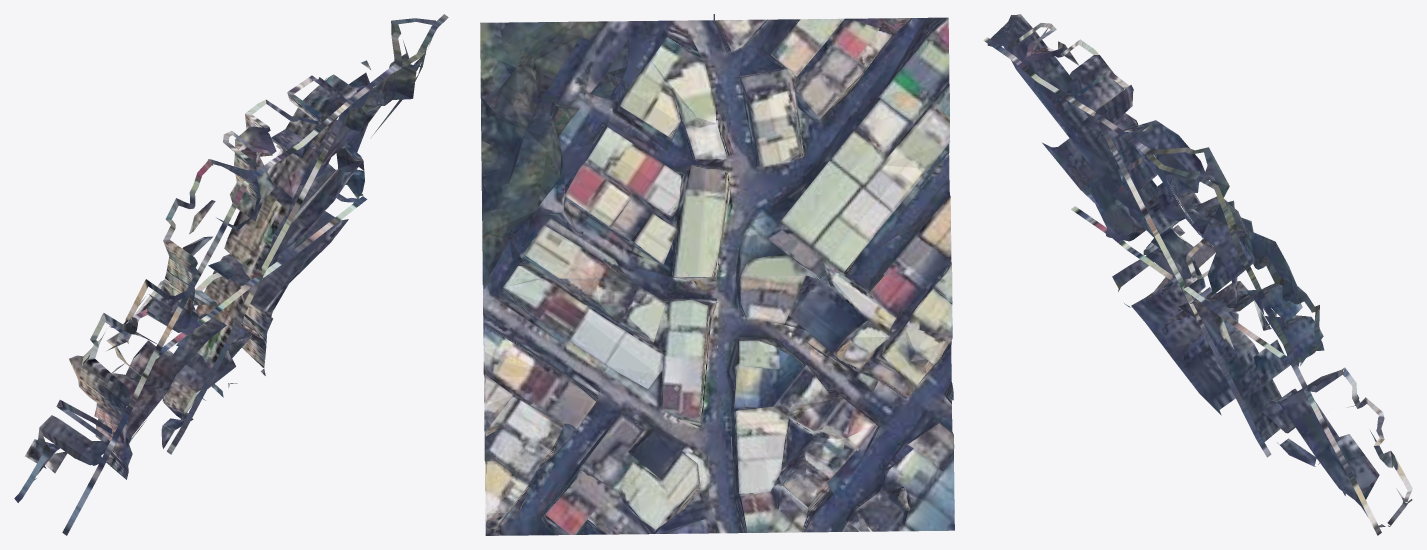
3 renders of one model, left to right at view 1: azimuth 30°, elevation 25°; view 2: azimuth 150°, elevation 25°; view 3: azimuth 270°, elevation 25°, orthographic. The views are drawn at different scales.
Size of the model in its own units: 161 by 146 by 139.
Materials: 1 (1 with a texture image).
